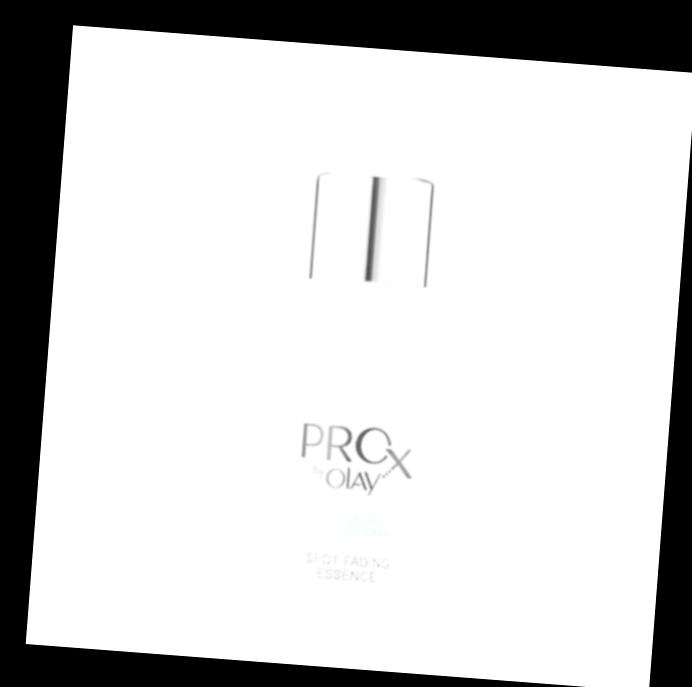cosmetic: (265, 76, 466, 632)
